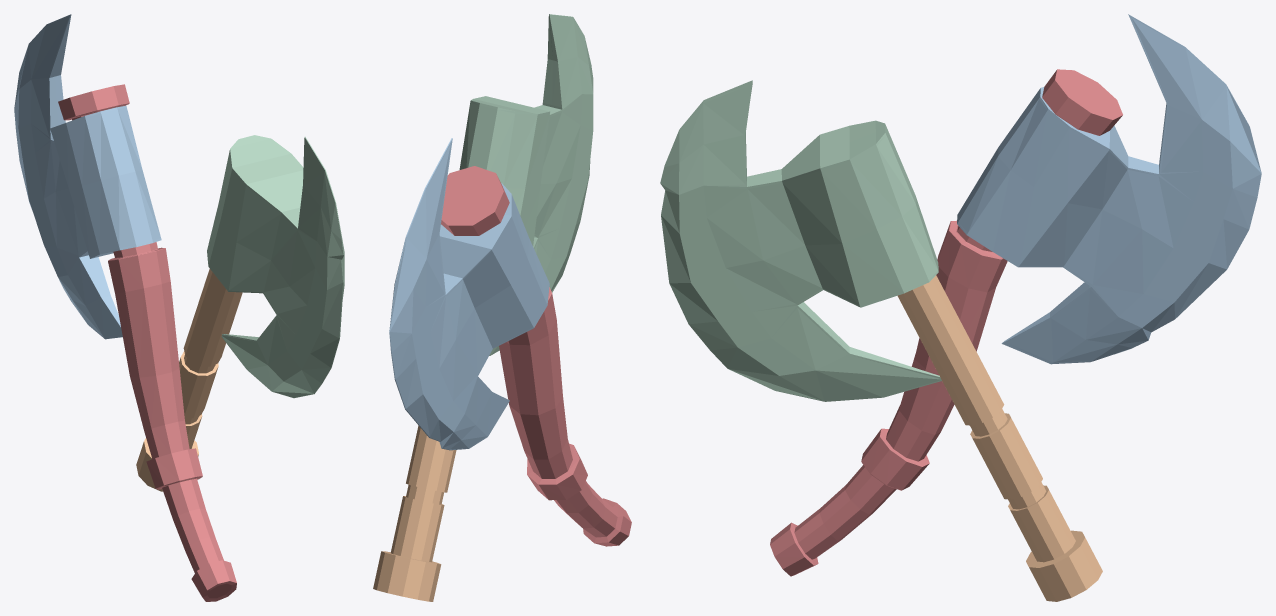
Rendered from 101950_assembly.glb.
3 renders of one model, left to right at view 1: azimuth 30°, elevation 25°; view 2: azimuth 150°, elevation 25°; view 3: azimuth 270°, elevation 25°, orthographic. The views are drawn at different scales.
Visible parts, largest first — view 1: part_03, part_04, part_00, part_01; view 2: part_04, part_03, part_00, part_01; view 3: part_03, part_04, part_00, part_01.
Part boxes in pixels (bbox=[...]): part_03: bbox=[207, 135, 344, 398]; part_04: bbox=[14, 14, 161, 339]; part_00: bbox=[58, 84, 236, 601]; part_01: bbox=[136, 268, 242, 491]; part_04: bbox=[389, 138, 549, 450]; part_03: bbox=[459, 14, 593, 355]; part_00: bbox=[441, 166, 631, 546]; part_01: bbox=[373, 425, 456, 601]; part_03: bbox=[660, 80, 941, 401]; part_04: bbox=[957, 14, 1261, 364]; part_00: bbox=[770, 69, 1122, 576]; part_01: bbox=[897, 275, 1102, 601].
Bounding box in the file's own units: 0.2914 × 1.02 × 0.9933.
